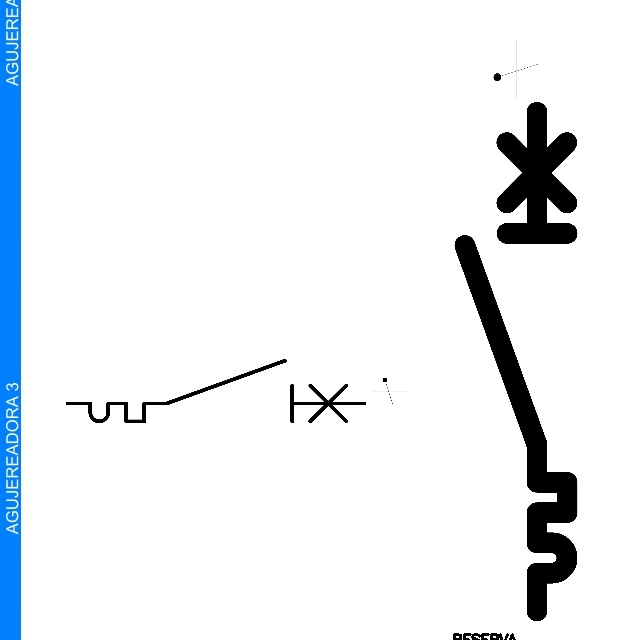interruptor_termomagnetico: (452, 99, 580, 624), (60, 353, 371, 429)
